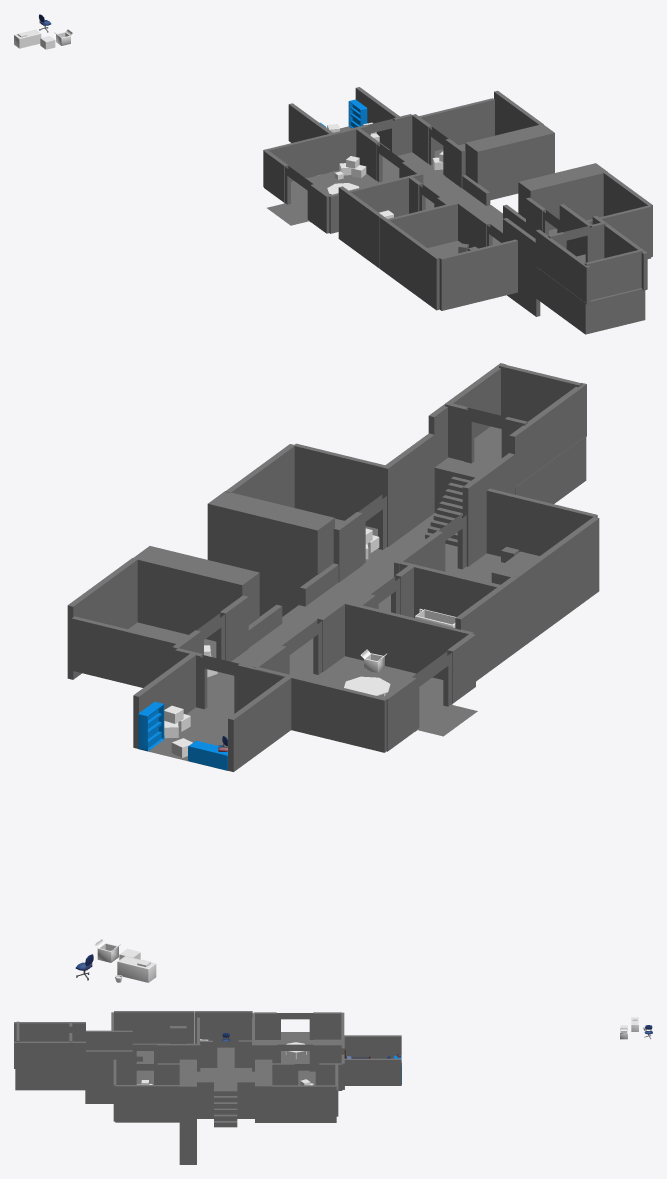
Rendered from camapro.fbx.
The picture shows the model from 3 angles, top to bottom: view 1: azimuth 30°, elevation 25°; view 2: azimuth 150°, elevation 25°; view 3: azimuth 270°, elevation 25°; orthographic projection. The views are drawn at different scales.
Parts seen in each view (by area): view 1: casaparahacer, Armario; view 2: casaparahacer, Armario; view 3: casaparahacer.
Part boxes in pixels (x1,y1,x2,y2): casaparahacer: (263, 87, 652, 334); Armario: (348, 99, 367, 128); casaparahacer: (67, 363, 599, 771); Armario: (138, 701, 164, 751); casaparahacer: (14, 1011, 401, 1164).
Size of the model in its own units: 44.16 by 21.16 by 127.
